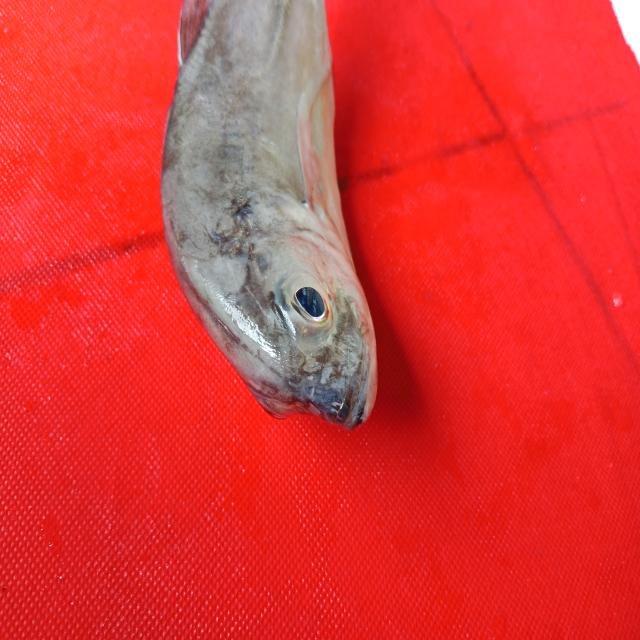ikan: (156, 4, 398, 449)
